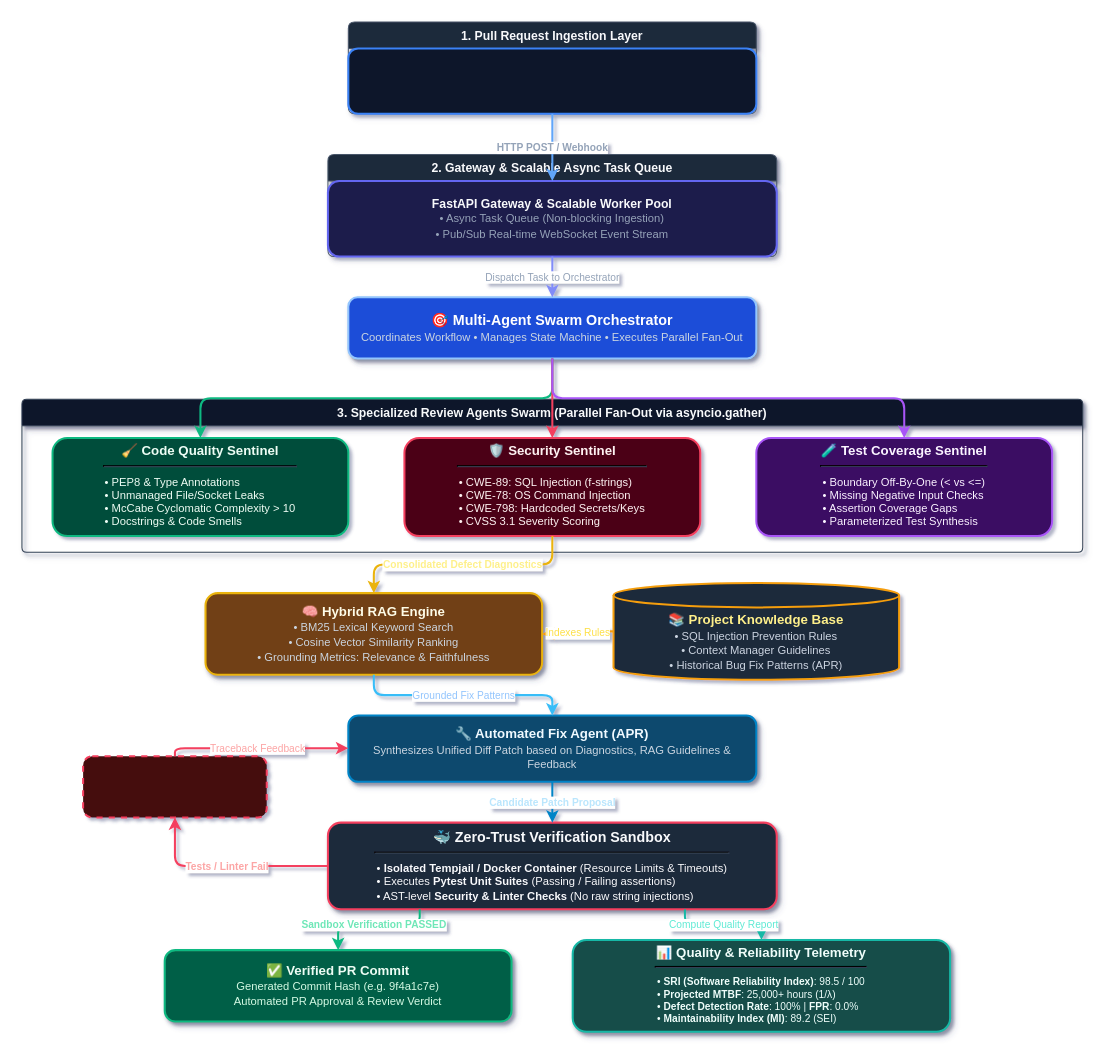
This 1113x1064 diagram has some shape labels left out. The centre of each missing label's shape, as x and y in pixels:
Developer Creates GitHub PR Webhook Trigger / PR Diff & Changed Files: pixel 552 80
Iterative Retry Loop Feedback: stderr, traceback Max Attempts: 3: pixel 174 786
